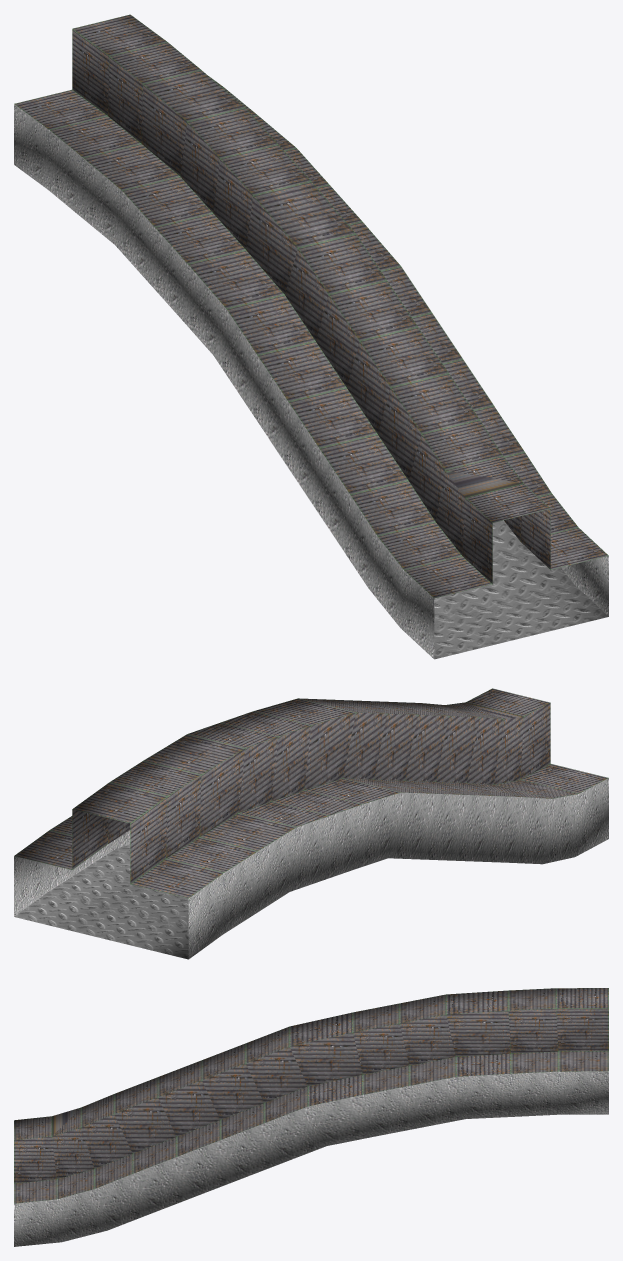
Rendered from tunnel4.obj.
3 views of the same model, one above another, from view 1: azimuth 30°, elevation 25°; view 2: azimuth 150°, elevation 25°; view 3: azimuth 270°, elevation 25° (orthographic). The views are drawn at different scales.
Parts seen in each view (by area): view 1: tunnel4, tunnel4_wall, tunnel4_floor; view 2: tunnel4, tunnel4_wall, tunnel4_floor; view 3: tunnel4, tunnel4_wall.
Part boxes in pixels (<box>): tunnel4: <box>14,14,608,598</box>; tunnel4_wall: <box>14,104,608,658</box>; tunnel4_floor: <box>434,520,608,659</box>; tunnel4: <box>14,688,608,898</box>; tunnel4_wall: <box>14,778,608,958</box>; tunnel4_floor: <box>14,844,188,959</box>; tunnel4: <box>14,988,608,1203</box>; tunnel4_wall: <box>14,1071,608,1246</box>.
Bounding box in the file's own units: 60 × 101 × 250.
3 materials, 3 textured.
